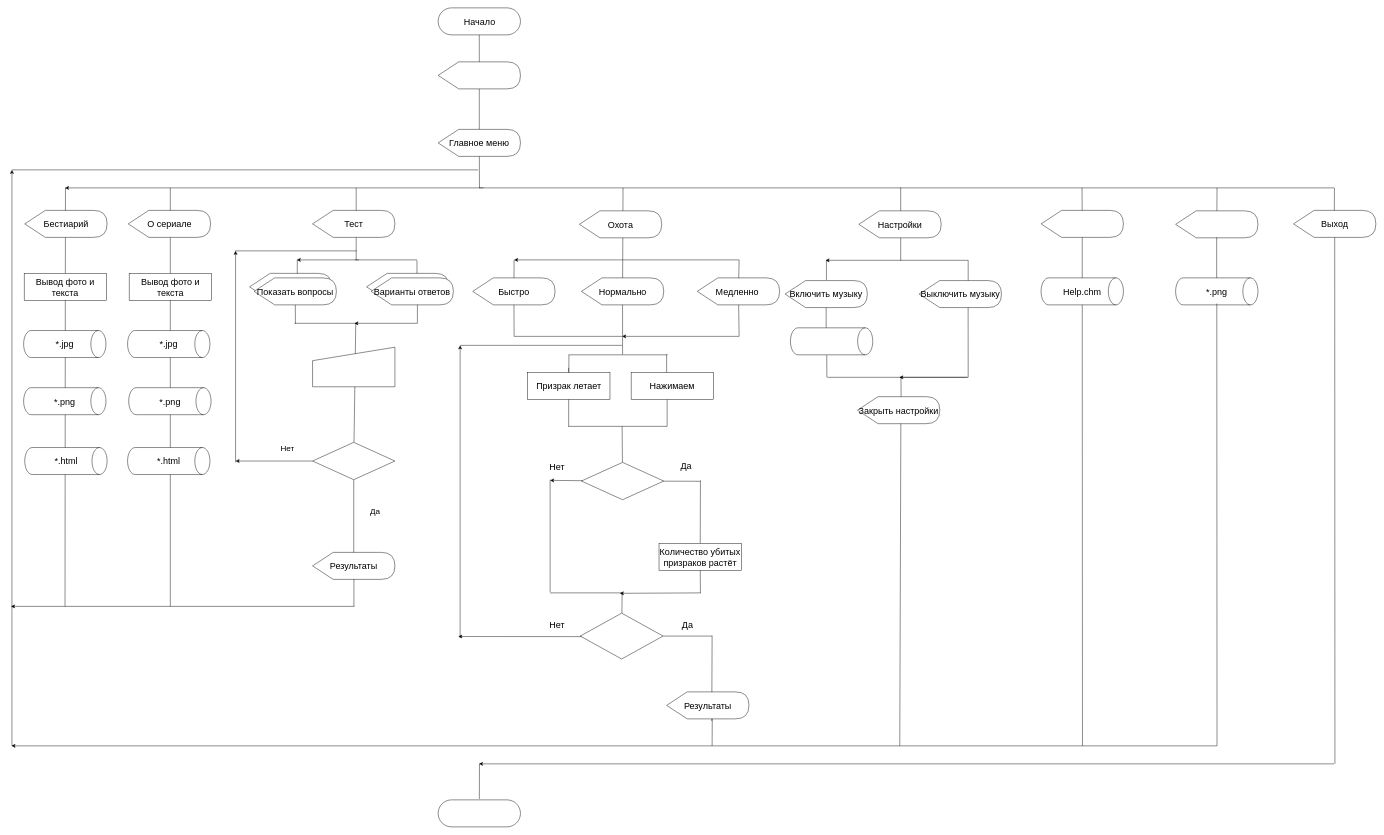
Some shapes in this 1384 by 835 pixel diagram are drawn without their labels. Here are the shapes that lost their labels. From the top down, the centre of each, then its label:
At [479,75]: "Заставка".
At [1082,223]: "Помощь".
At [1216,224]: "О разработчике".
At [831,341]: "*.mp3".
At [353,367]: "Заносим ответ".
At [353,461]: "Тест пройден?".
At [622,481]: "Попали".
At [621,636]: "Время закончилось".
At [479,813]: "Конец".
